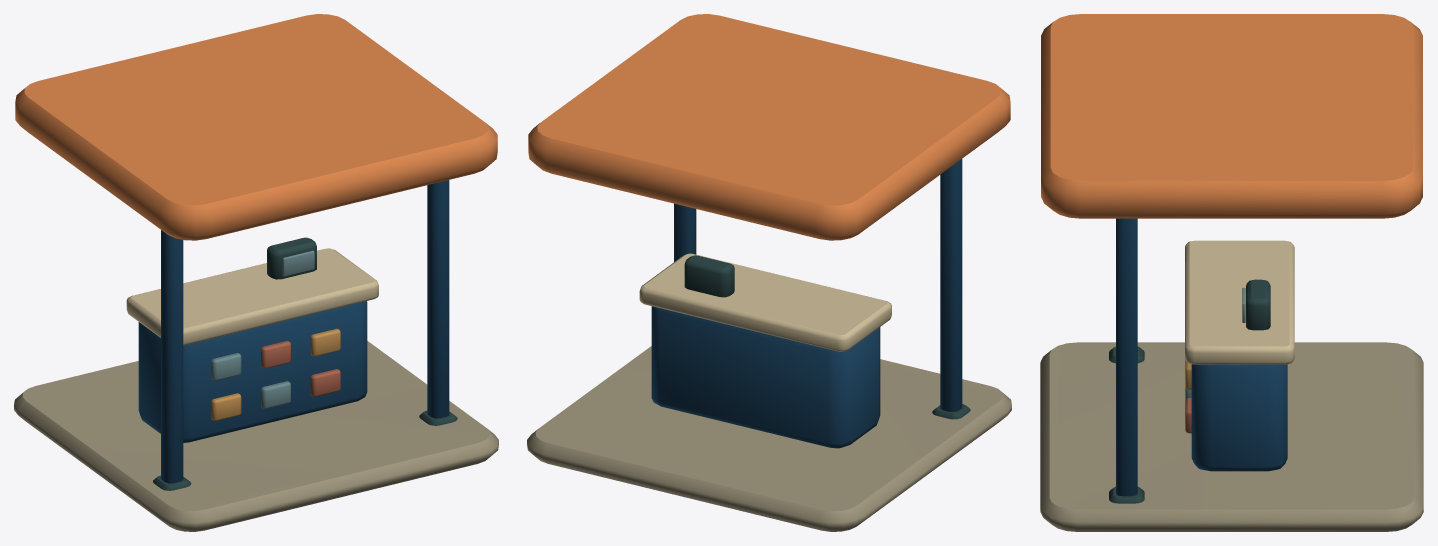
The model's file is metro_mall_2.glb.
The picture shows the model from 3 angles, left to right: view 1: azimuth 30°, elevation 25°; view 2: azimuth 150°, elevation 25°; view 3: azimuth 270°, elevation 25°; orthographic projection. The views are drawn at different scales.
Visible parts, largest first — view 1: Mall2; view 2: Mall2; view 3: Mall2.
Boxes of the visible parts, left/top/right/bottom form: Mall2: left=14, top=14, right=498, bottom=531; Mall2: left=527, top=14, right=1011, bottom=531; Mall2: left=1040, top=14, right=1423, bottom=531.
Bounding box in the file's own units: 2.68 × 2.51 × 2.48.
